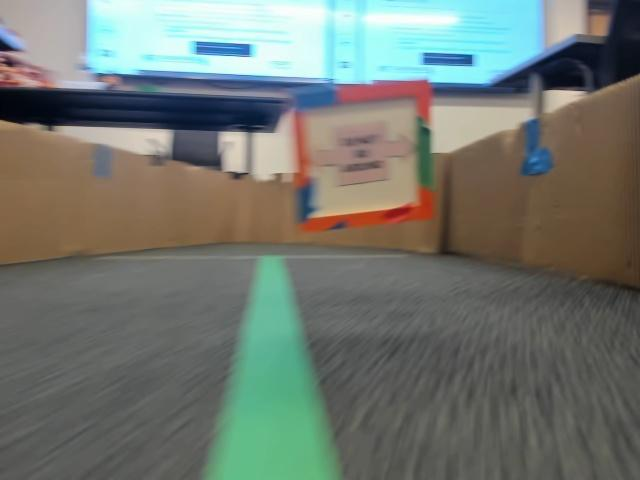Do Not Go Around: (307, 129, 410, 188)
